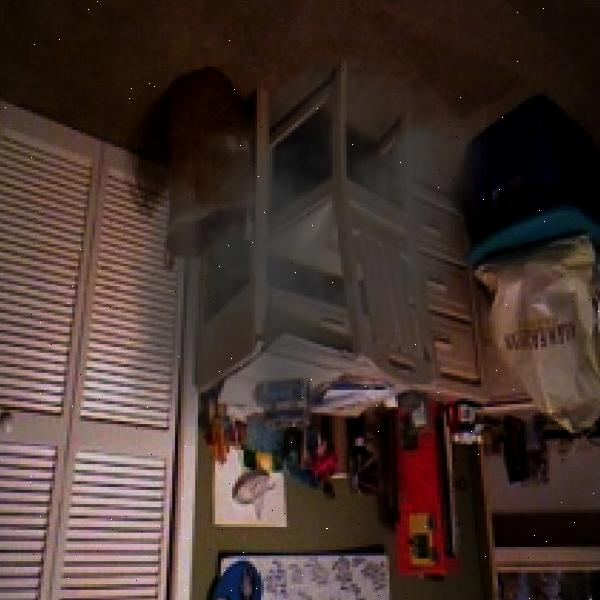smoke: (126, 36, 486, 447)
